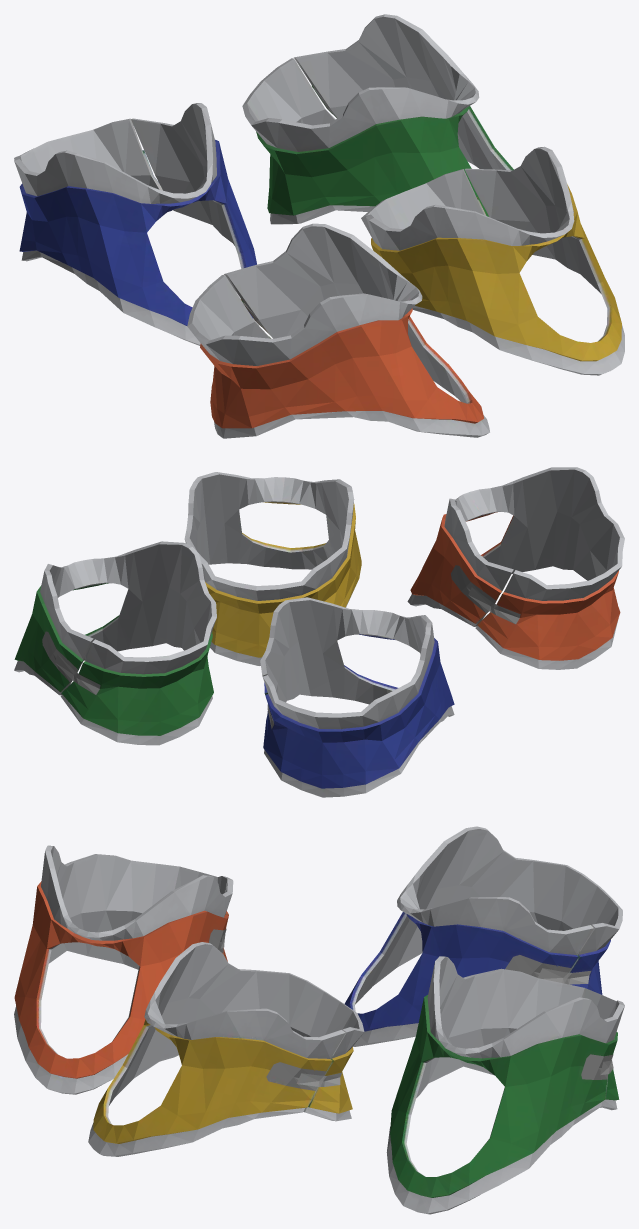
File: colliers.glb
3 renders of one model, top to bottom at view 1: azimuth 30°, elevation 25°; view 2: azimuth 150°, elevation 25°; view 3: azimuth 270°, elevation 25°, orthographic. The views are drawn at different scales.
Parts seen in each view (by area): view 1: model_0 (×4); view 2: model_0 (×4); view 3: model_0 (×4).
Boxes of the visible parts, bbox=[...] form: model_0 (×4): bbox=[14, 14, 624, 438]; model_0 (×4): bbox=[14, 467, 624, 797]; model_0 (×4): bbox=[14, 826, 624, 1214].
Bounding box in the file's own units: 48.15 × 16.91 × 52.46.
1 material, 1 textured.
